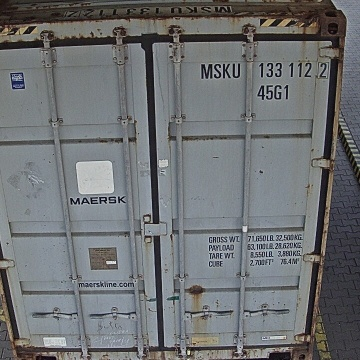serial_id: (201, 62, 329, 78)
